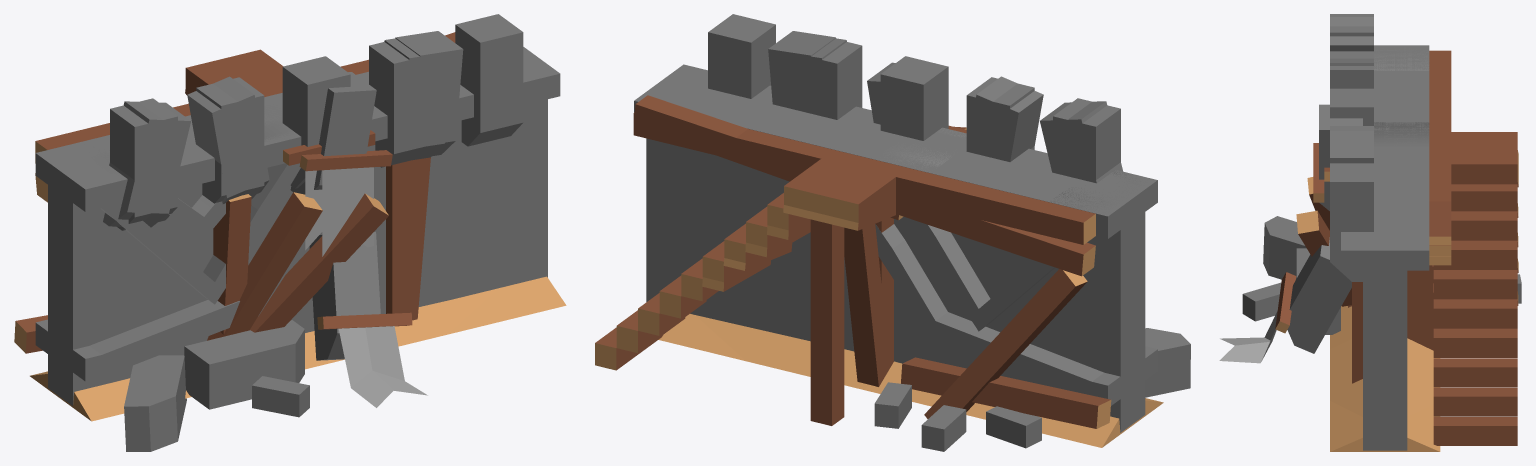
The model's file is Stone Wall 2.fbx.
The picture shows the model from 3 angles, left to right: view 1: azimuth 30°, elevation 25°; view 2: azimuth 150°, elevation 25°; view 3: azimuth 270°, elevation 25°; orthographic projection. The views are drawn at different scales.
Parts seen in each view (by area): view 1: Wall, Destruction_phase_1, Destruction_phase_3, Destruction_phase_2, Flag_x, Flag_1 (×2); view 2: Wall, Destruction_phase_1, Destruction_phase_3, Destruction_phase_2; view 3: Wall, Destruction_phase_1, Destruction_phase_3, Destruction_phase_2, Flag_x.
Part boxes in pixels (bbox=[...]): Wall: bbox=[30, 14, 566, 421]; Destruction_phase_1: bbox=[35, 32, 560, 399]; Destruction_phase_3: bbox=[14, 31, 559, 405]; Destruction_phase_2: bbox=[40, 38, 444, 451]; Flag_x: bbox=[338, 326, 427, 407]; Flag_1 (×2): bbox=[305, 167, 373, 256]; Wall: bbox=[595, 14, 1163, 447]; Destruction_phase_1: bbox=[634, 64, 1154, 448]; Destruction_phase_3: bbox=[634, 31, 1157, 451]; Destruction_phase_2: bbox=[635, 38, 1190, 418]; Wall: bbox=[1324, 14, 1517, 451]; Destruction_phase_1: bbox=[1330, 17, 1451, 307]; Destruction_phase_3: bbox=[1275, 135, 1521, 353]; Destruction_phase_2: bbox=[1242, 45, 1518, 383]; Flag_x: bbox=[1219, 311, 1277, 363].
Bounding box in the file's own units: 2.23 × 1.33 × 1.37.
Materials: 2 (1 with a texture image).
